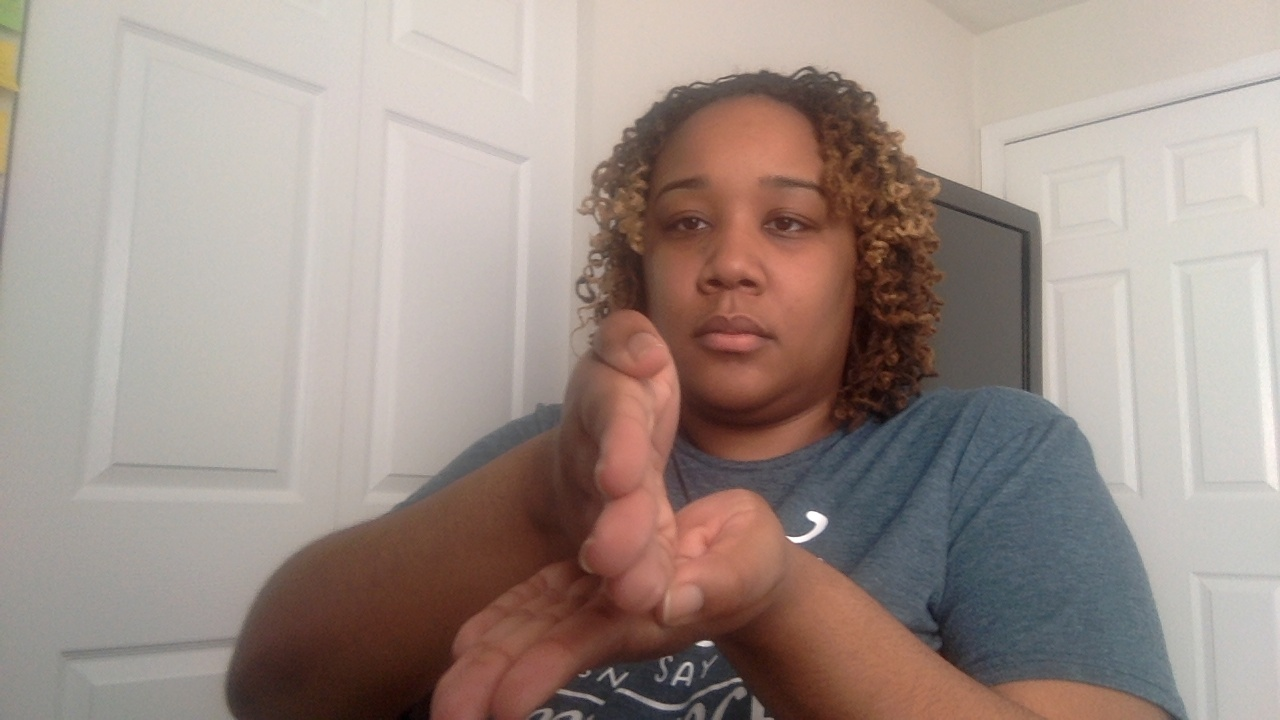stop: (430, 313, 787, 718)
